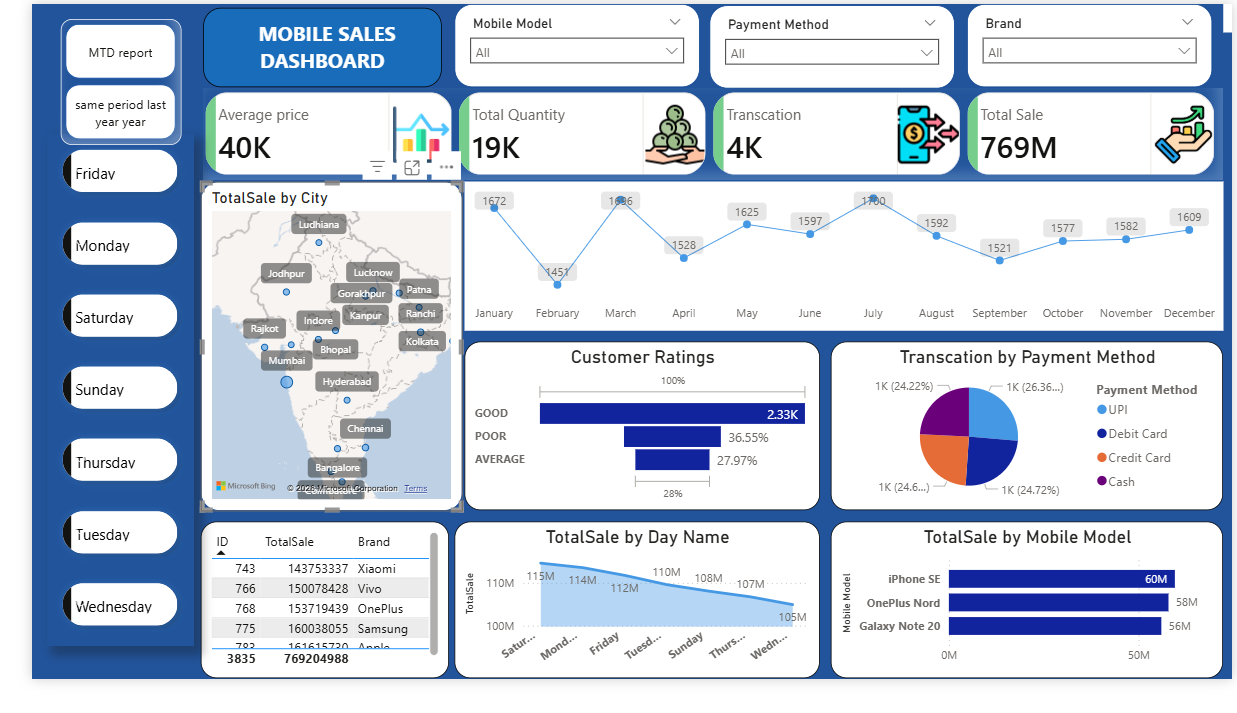

What the dashboard file says about the page in this screenshot:
{"tool":"powerbi","page":{"name":"Dashboard","canvas":[1280,720],"ordinal":0},"visuals":[{"type":"textbox","box":[15.9,4.3,156.5,134.8],"z":0},{"type":"cardVisual","fields":{"Data":["Sheet1.Average price","Sheet1.Total_sold","Sheet1.Transcation","Sheet1.TotalSale"]},"box":[182.9,89.5,1088.2,98.7],"z":1000},{"type":"slicer","fields":{"Values":["Sheet1.Mobile Model"]},"box":[450,0,261.3,88.9],"z":2000},{"type":"slicer","fields":{"Values":["Sheet1.Payment Method"]},"box":[722.2,1.4,261.3,88.9],"z":3000},{"type":"slicer","fields":{"Values":["Sheet1.Brand"]},"box":[997.1,0,261.3,88.9],"z":4000},{"type":"textbox","box":[183.3,4.1,254.4,84.8],"z":5000},{"type":"map","fields":{"Category":["Sheet1.City"],"Size":["Sheet1.TotalSale"]},"box":[180.3,189.5,278.9,351.3],"z":6000},{"type":"lineChart","fields":{"Category":["date_list.Date.Variation.Date Hierarchy.Month"],"Y":["Sheet1.TOTAL QUANTITY"]},"box":[461.8,189.5,809.2,159.2],"z":7000},{"type":"funnel","title":" Customer Ratings ","fields":{"Category":["Sheet1.RATING Column"],"Y":["CountNonNull(Sheet1.Customer Ratings)"]},"box":[461.8,360.5,378.9,180.3],"z":8000},{"type":"pieChart","fields":{"Y":["Sheet1.Transcation"],"Category":["Sheet1.Payment Method"]},"box":[852.6,360.5,418.4,180.3],"z":9000},{"type":"barChart","fields":{"Y":["Sheet1.TotalSale"],"Category":["Sheet1.Mobile Model"]},"box":[852.6,552.6,418.4,167.1],"z":10000},{"type":"areaChart","fields":{"Category":["date_list.Day Name"],"Y":["Sheet1.TotalSale"]},"box":[451.3,552.6,389.5,167.1],"z":11000},{"type":"tableEx","fields":{"Values":["Count(Sheet1.Transaction ID)","Sheet1.TotalSale","Sheet1.Brand"]},"box":[180.3,552.6,264.5,167.1],"z":12000},{"type":"advancedSlicerVisual","fields":{"Values":["date_list.Day Name"]},"box":[15.9,139.1,156.5,546.4],"z":13000},{"type":"qnaVisual","box":[1271,0,8.7,30.4],"z":14000},{"type":"pageNavigator","box":[30.4,15.9,129,134.8],"z":15000}]}

Visuals, with their boxes in screenshot pixels (x1, y1, x2, y2), scaled from the page's 1280x720 canvas onto the 1237x713 screenshot:
textbox: (15,4,167,138)
cardVisual - Sheet1.Average price x Sheet1.Total_sold: (177,89,1228,186)
slicer - Sheet1.Mobile Model: (435,0,687,88)
slicer - Sheet1.Payment Method: (698,1,950,89)
slicer - Sheet1.Brand: (964,0,1216,88)
textbox: (177,4,423,88)
map - Sheet1.City x Sheet1.TotalSale: (174,188,444,536)
lineChart - date_list.Date.Variation.Date Hierarchy.Month x Sheet1.TOTAL QUANTITY: (446,188,1228,345)
" Customer Ratings " funnel: (446,357,812,536)
pieChart - Sheet1.Transcation x Sheet1.Payment Method: (824,357,1228,536)
barChart - Sheet1.TotalSale x Sheet1.Mobile Model: (824,547,1228,712)
areaChart - date_list.Day Name x Sheet1.TotalSale: (436,547,813,712)
tableEx - Count(Sheet1.Transaction ID) x Sheet1.TotalSale: (174,547,430,712)
advancedSlicerVisual - date_list.Day Name: (15,138,167,679)
qnaVisual: (1228,0,1236,30)
pageNavigator: (29,16,154,149)
